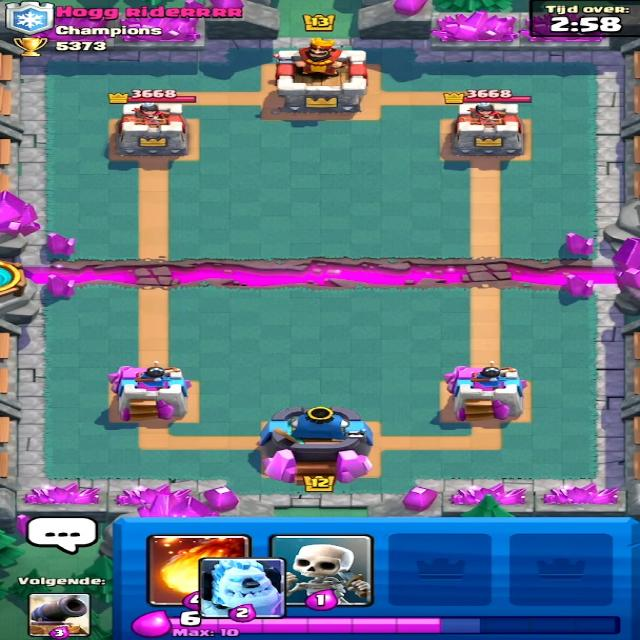Skeleton_Card: (269, 535, 377, 609)
